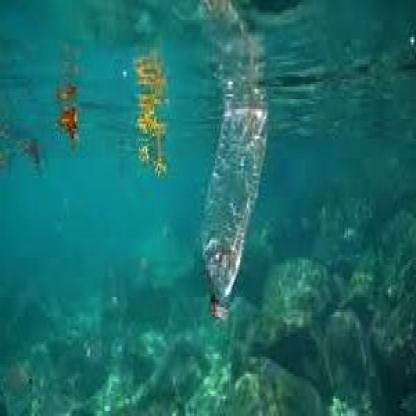pbottle: (194, 82, 273, 324)
